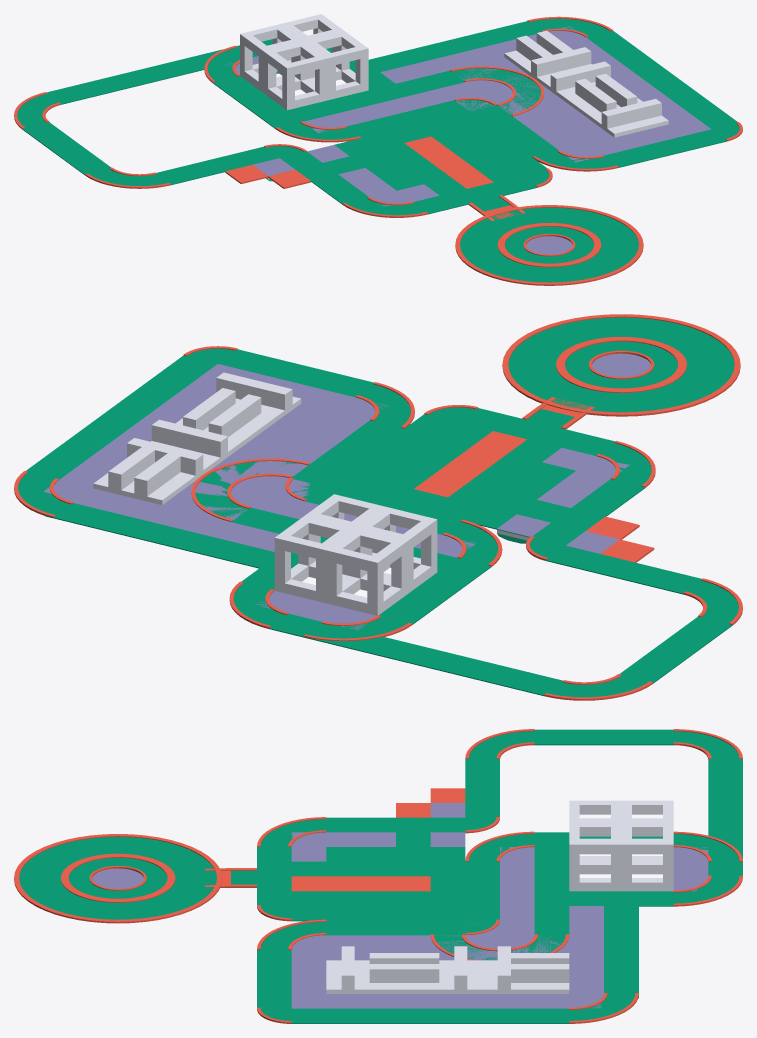
3 renders of one model, top to bottom at view 1: azimuth 30°, elevation 25°; view 2: azimuth 150°, elevation 25°; view 3: azimuth 270°, elevation 25°, orthographic. The views are drawn at different scales.
Parts seen in each view (by area): view 1: mergedBlocks; view 2: mergedBlocks; view 3: mergedBlocks.
Boxes of the visible parts, x1=… form: mergedBlocks: x1=14, y1=14, x2=742, y2=285; mergedBlocks: x1=14, y1=314, x2=742, y2=700; mergedBlocks: x1=14, y1=729, x2=742, y2=1023.
Bounding box in the file's own units: 80 × 8.6 × 84.
